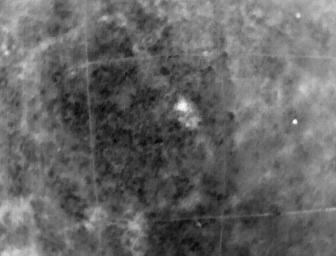landmine: (175, 99, 190, 113)
